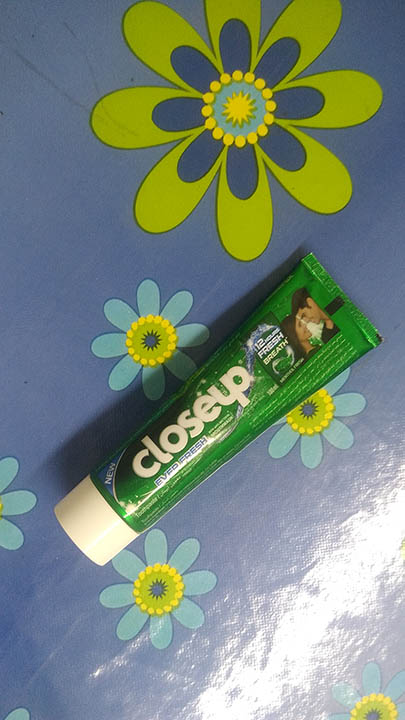Toothpaste-Closeup 3.04$: (59, 273, 385, 559)
